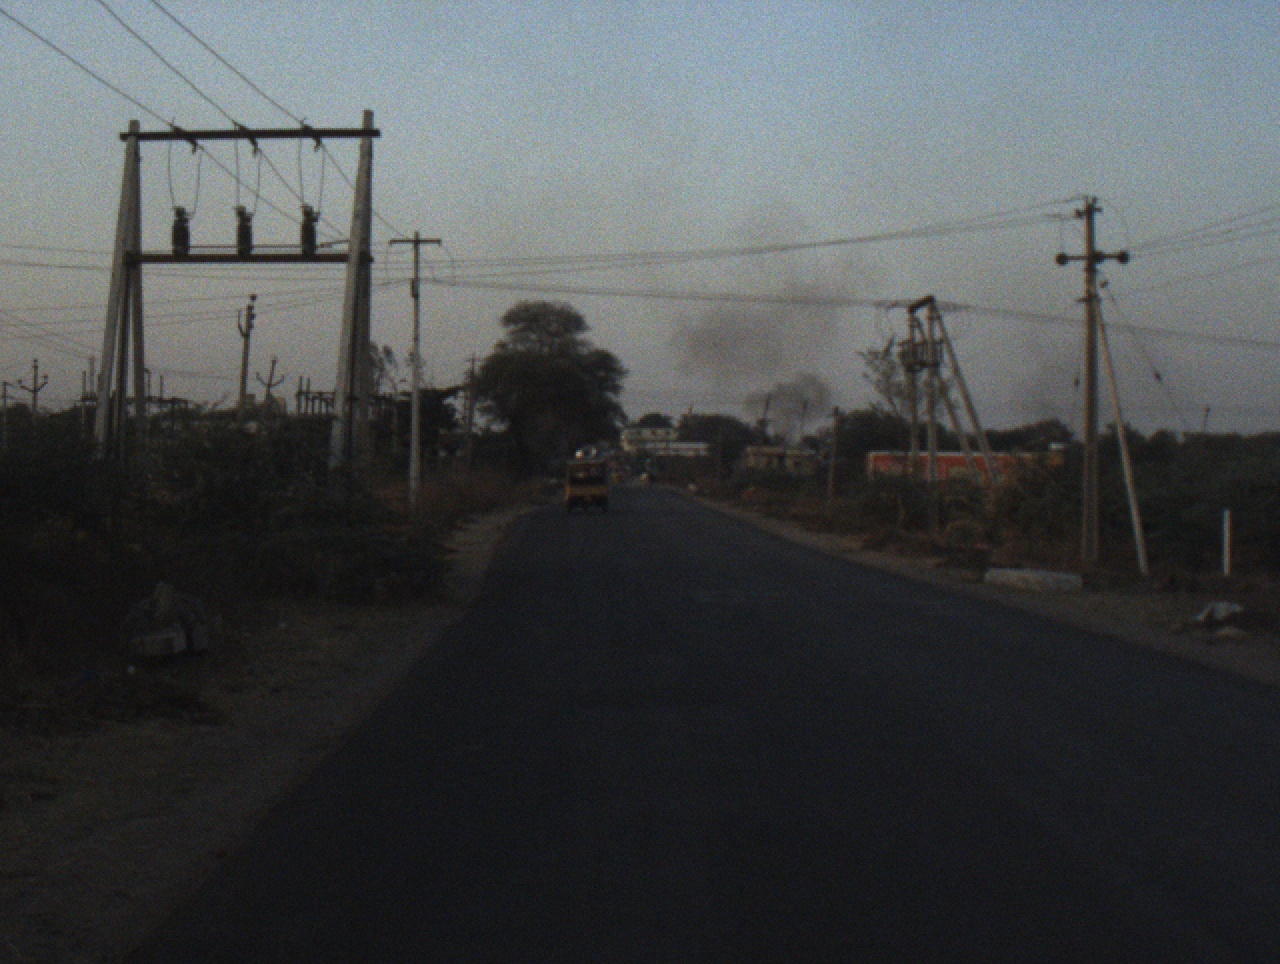autorickshaw: (560, 444, 617, 516), (608, 460, 632, 484)
